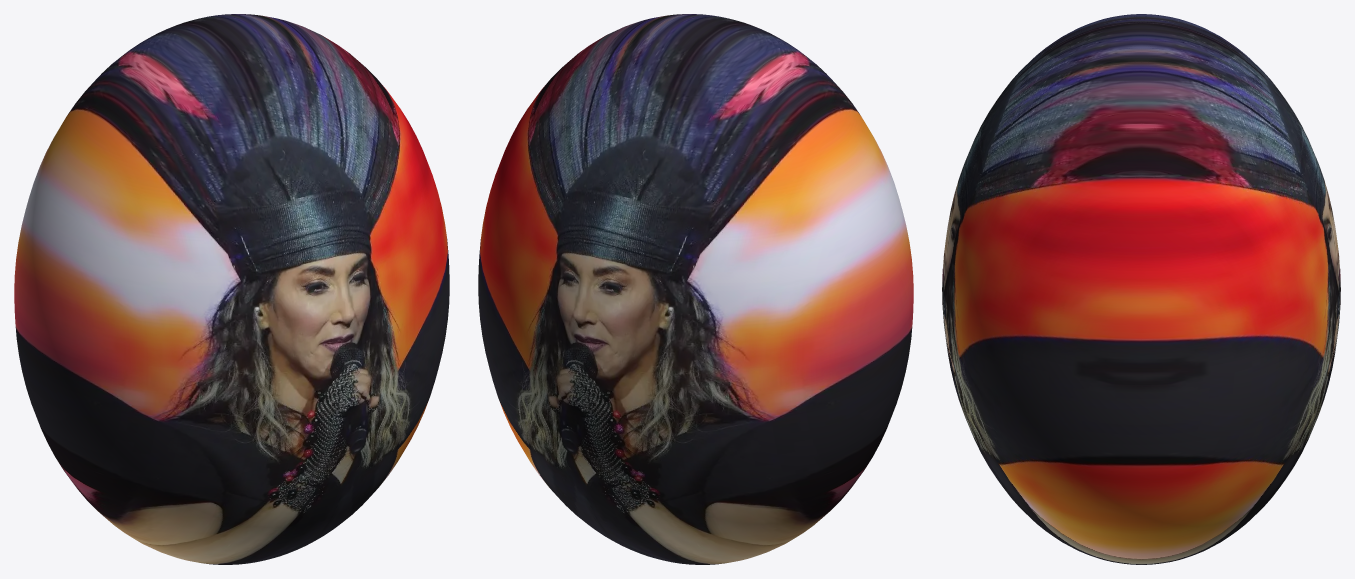
The picture shows the model from 3 angles, left to right: view 1: azimuth 30°, elevation 25°; view 2: azimuth 150°, elevation 25°; view 3: azimuth 270°, elevation 25°; orthographic projection.
Visible parts, largest first — view 1: head; view 2: head; view 3: head.
Part boxes in pixels (box(x1,y1,x2,y2)): head: box(14, 14, 449, 564); head: box(478, 14, 913, 564); head: box(942, 14, 1340, 564).
Bounding box in the file's own units: 1.55 × 2 × 1.39.
1 material, 1 textured.
